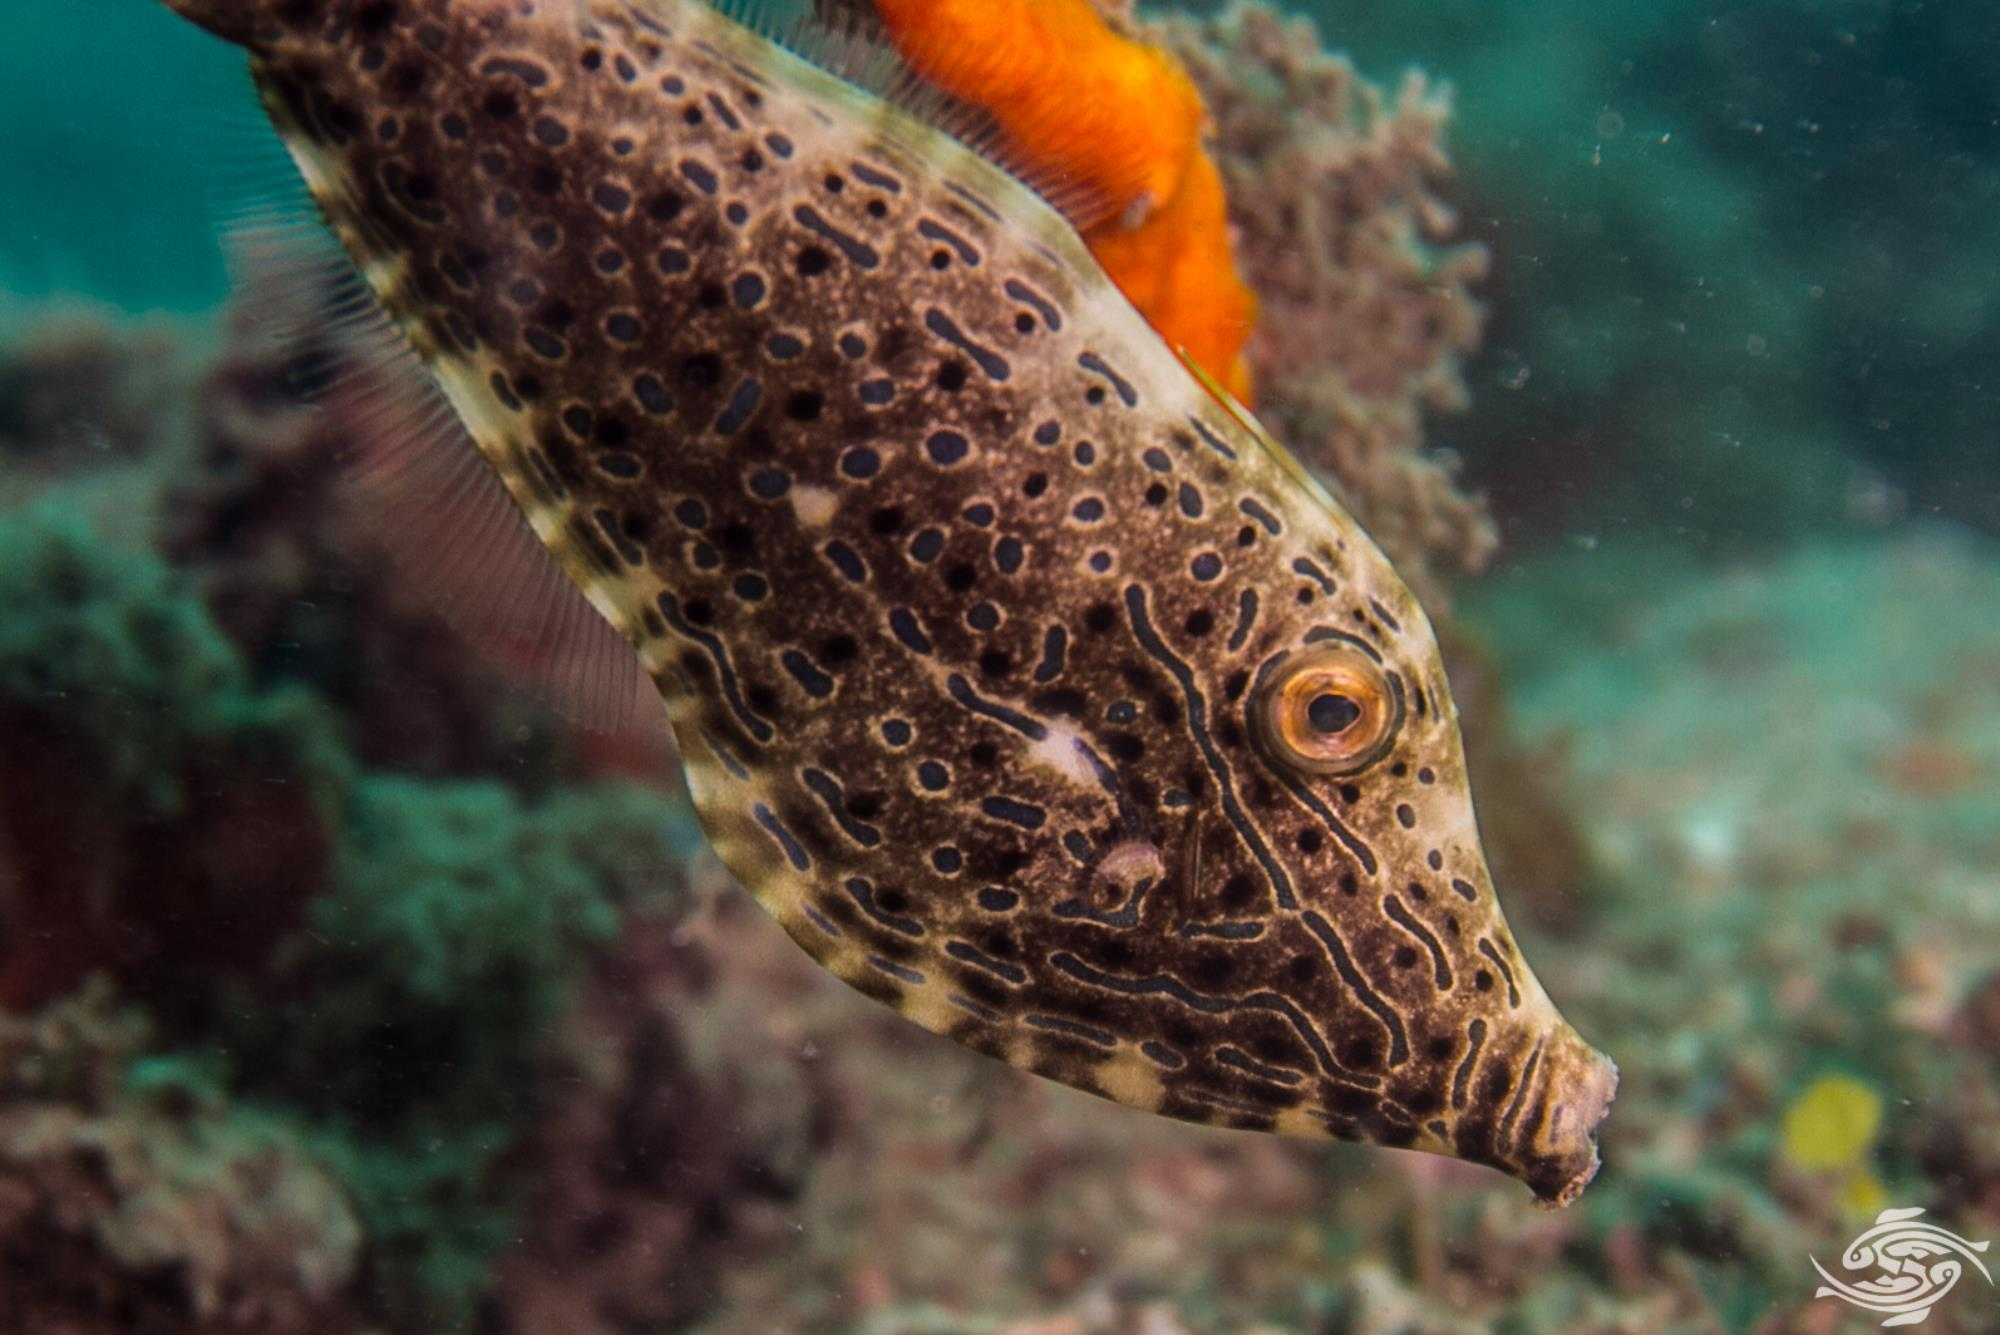Aluterus_scriptus: (162, 1, 1631, 1217)
